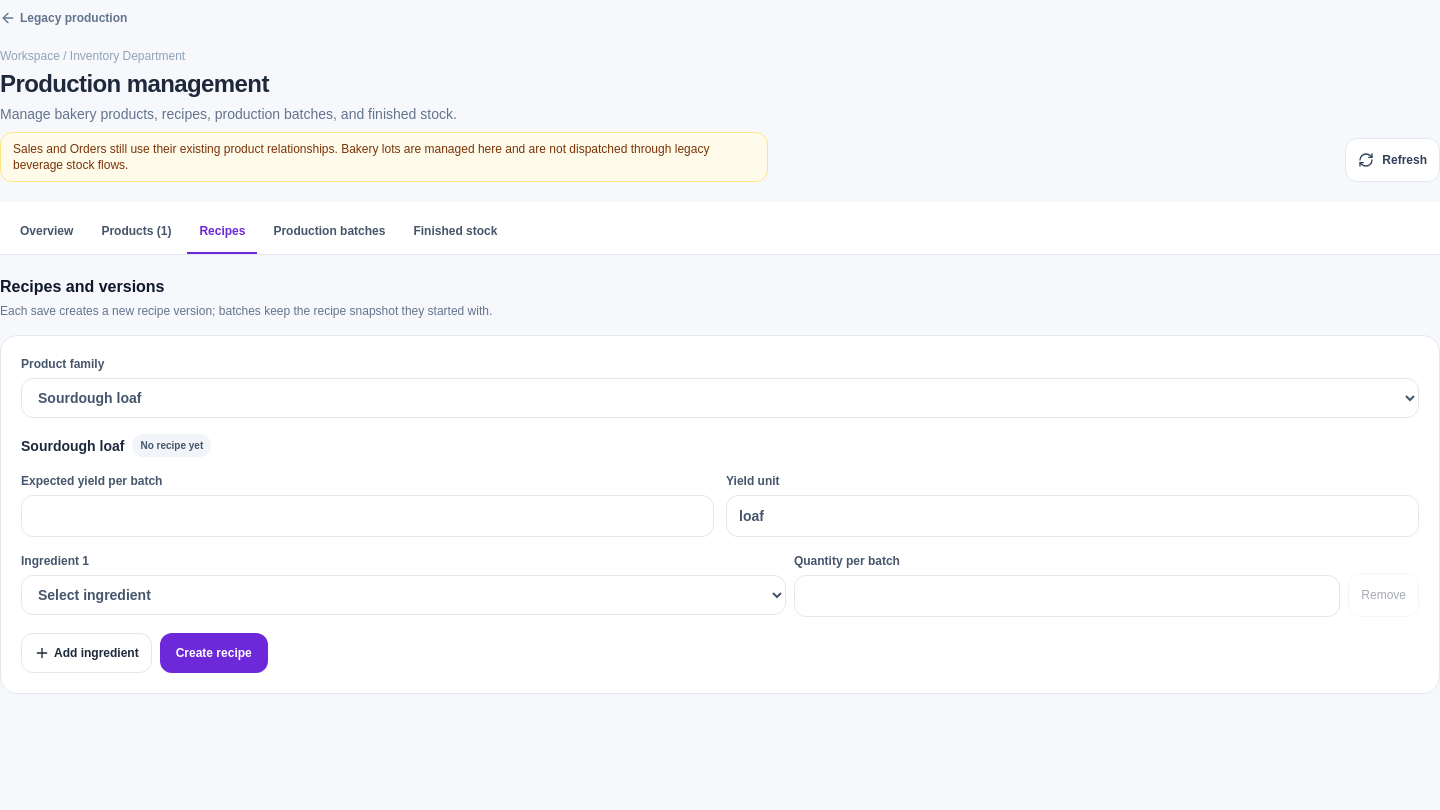
Test: bakery product profile image › uses the view query parameter for direct links and selection
Later steps or results of the test are not shown.
Expected: the heading "Recipes and versions" is shown, left=0, top=278, right=164, bottom=295
Click the tab "Products (1)" at [136, 232], box left=89, top=210, right=183, bottom=254
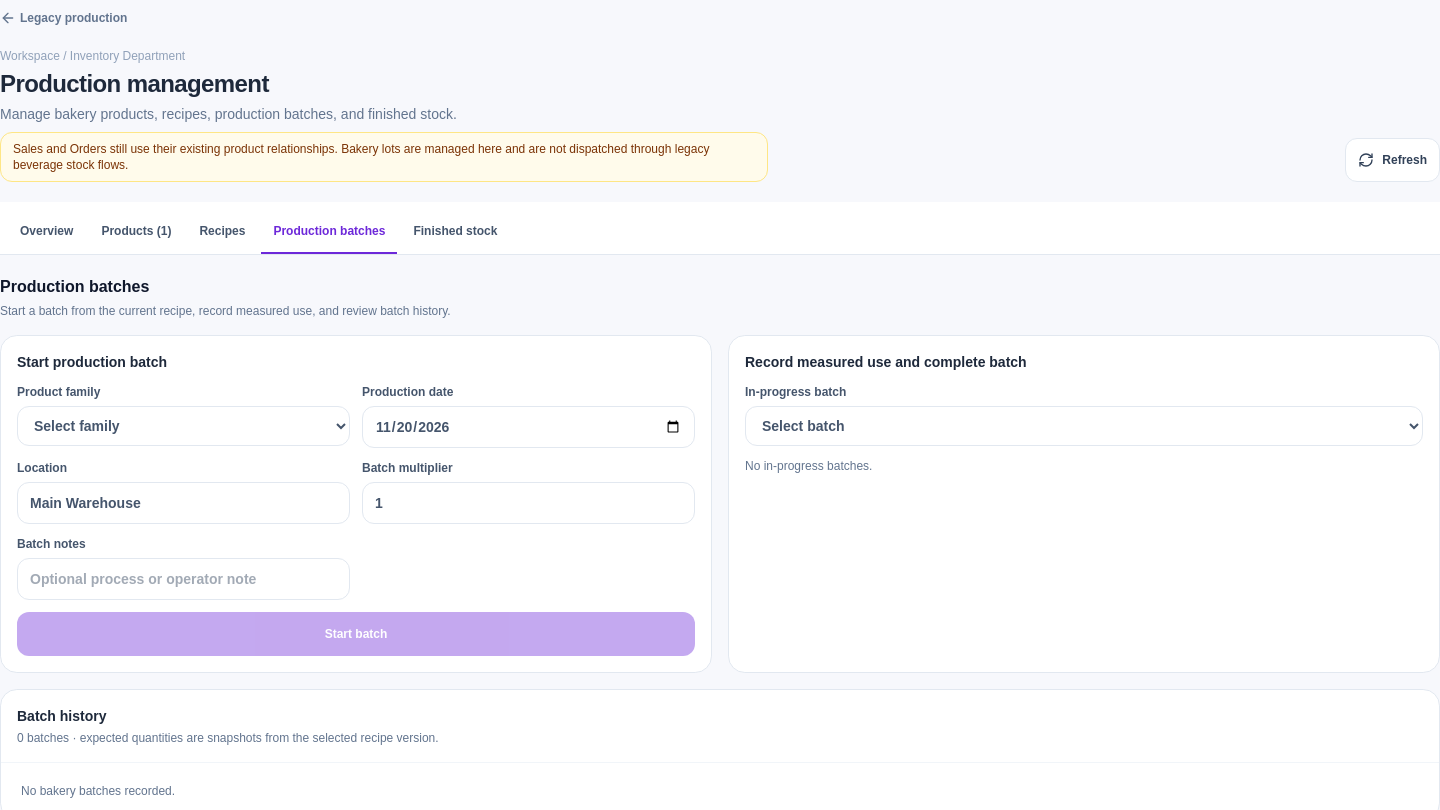
Now the heading "Batch history" is shown, box left=17, top=708, right=106, bottom=724
